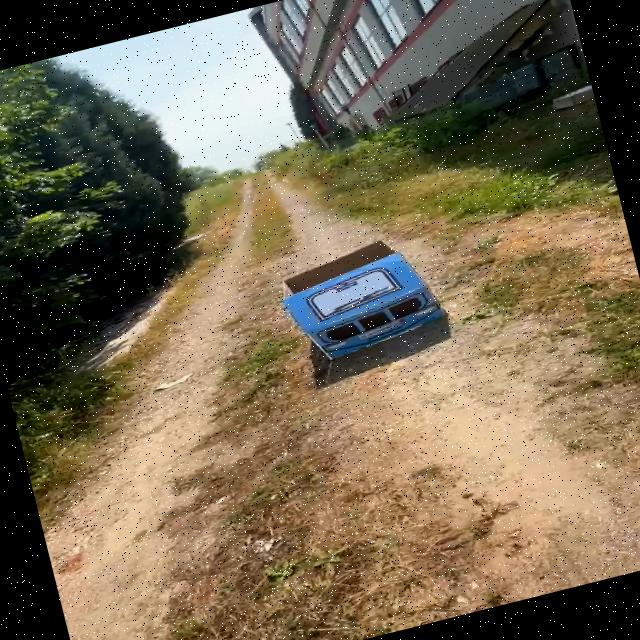blue_car: (251, 203, 473, 382)
